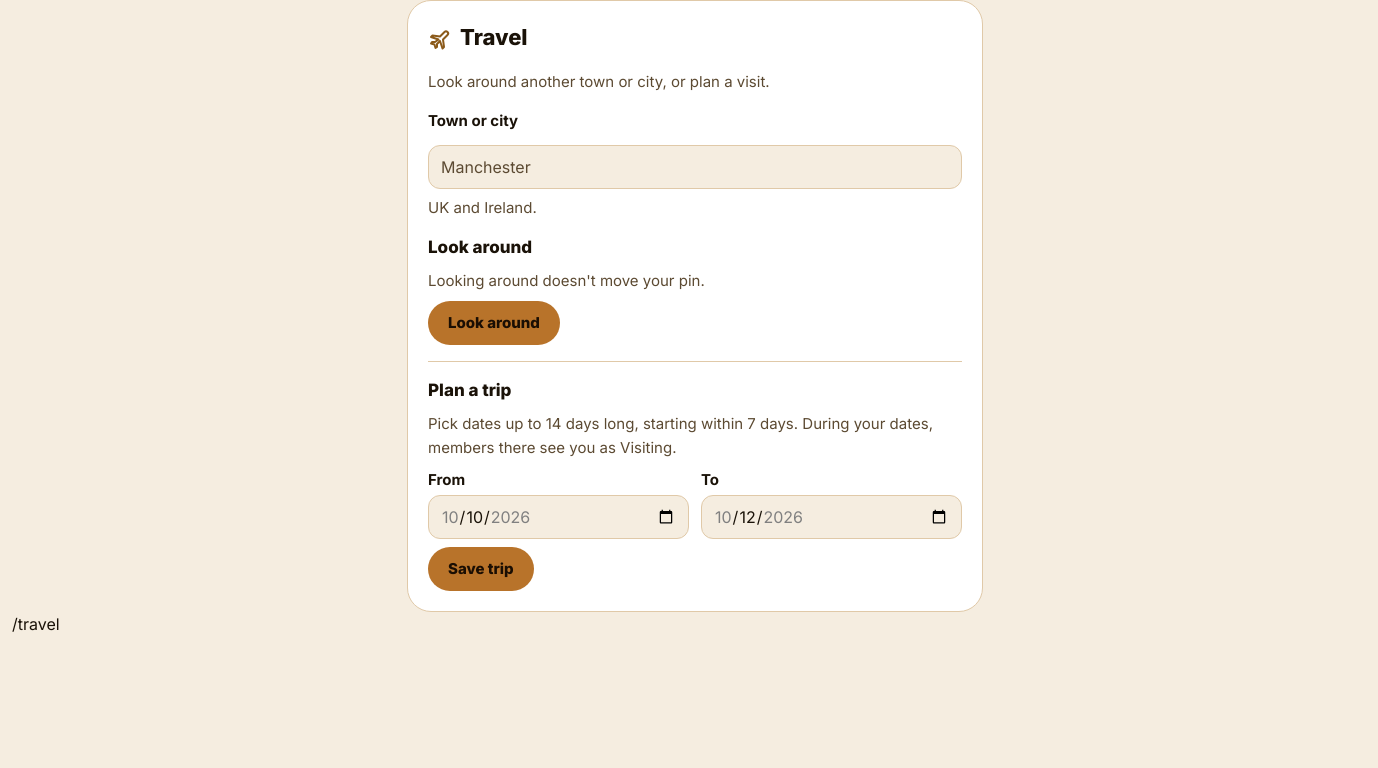
Test: TravelSheet › saves a trip, shows it, and ends it
The image size is (1378, 768).
Type "Leeds" into the field with test id "travel-city" at (695, 167), box [428,145,962,189]
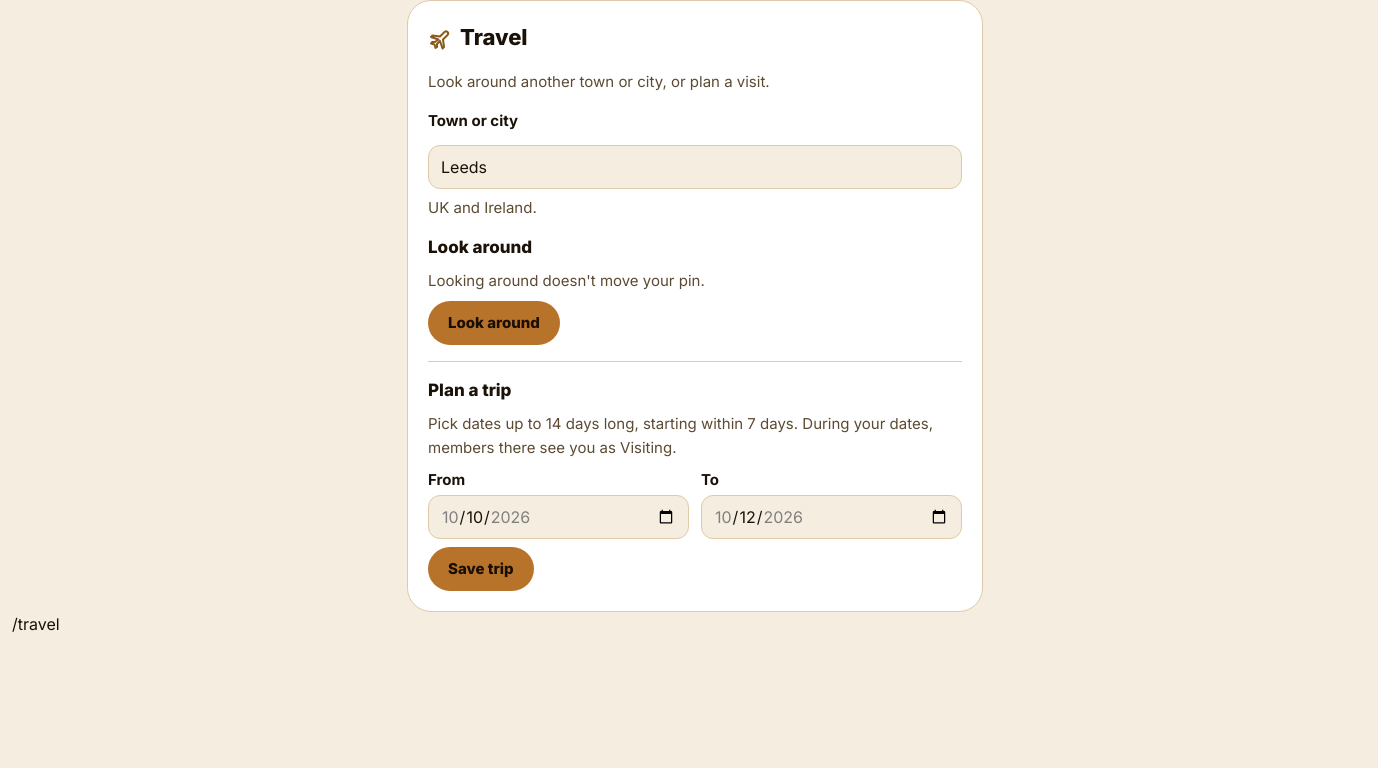
Click the button with test id "travel-save-trip" at (481, 569), box [428,547,534,591]
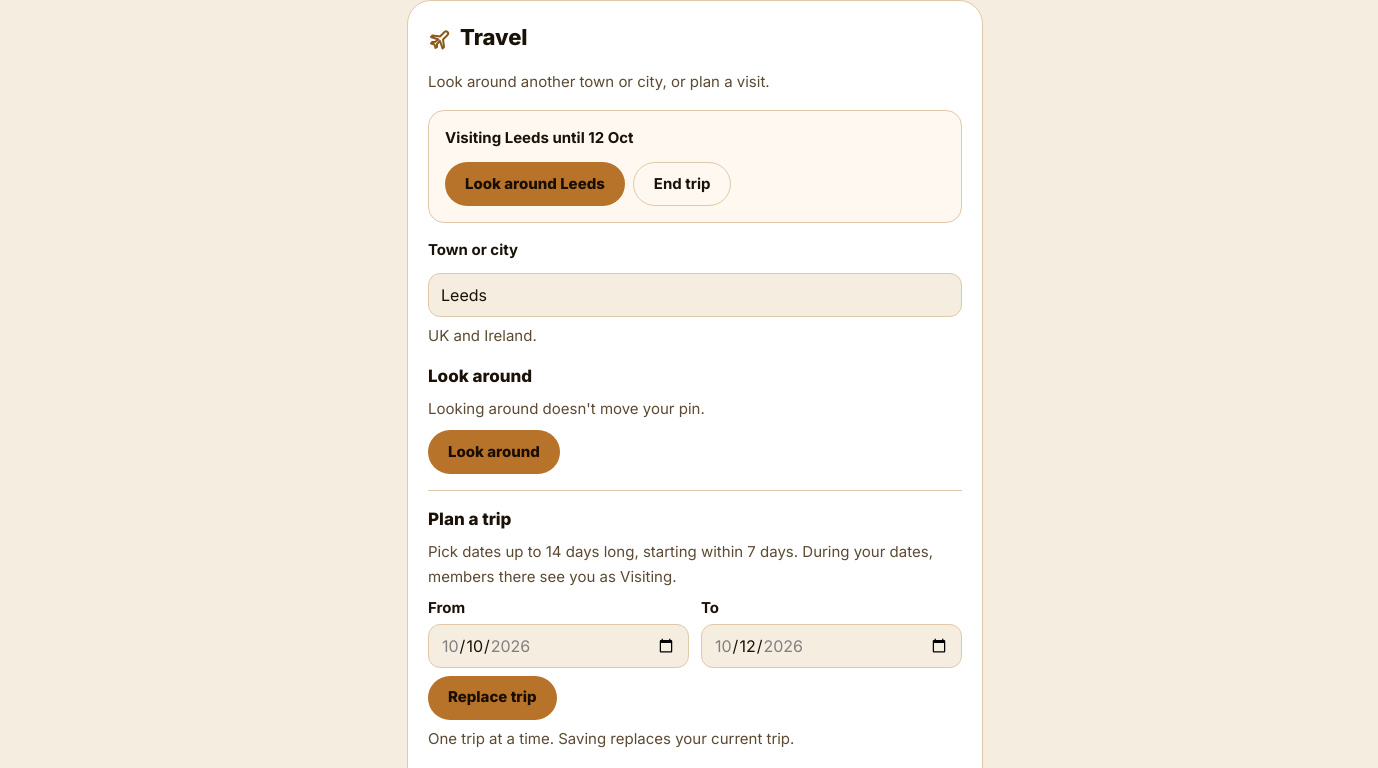
Expected: the text with test id "travel-trip-summary" reads "Visiting Leeds until 12 Oct", [445,128,634,147]
Expected: the button with test id "travel-save-trip" reads "Replace trip", [428,676,556,720]
Click the button with test id "travel-end-trip" at (682, 184), box [633,162,732,206]
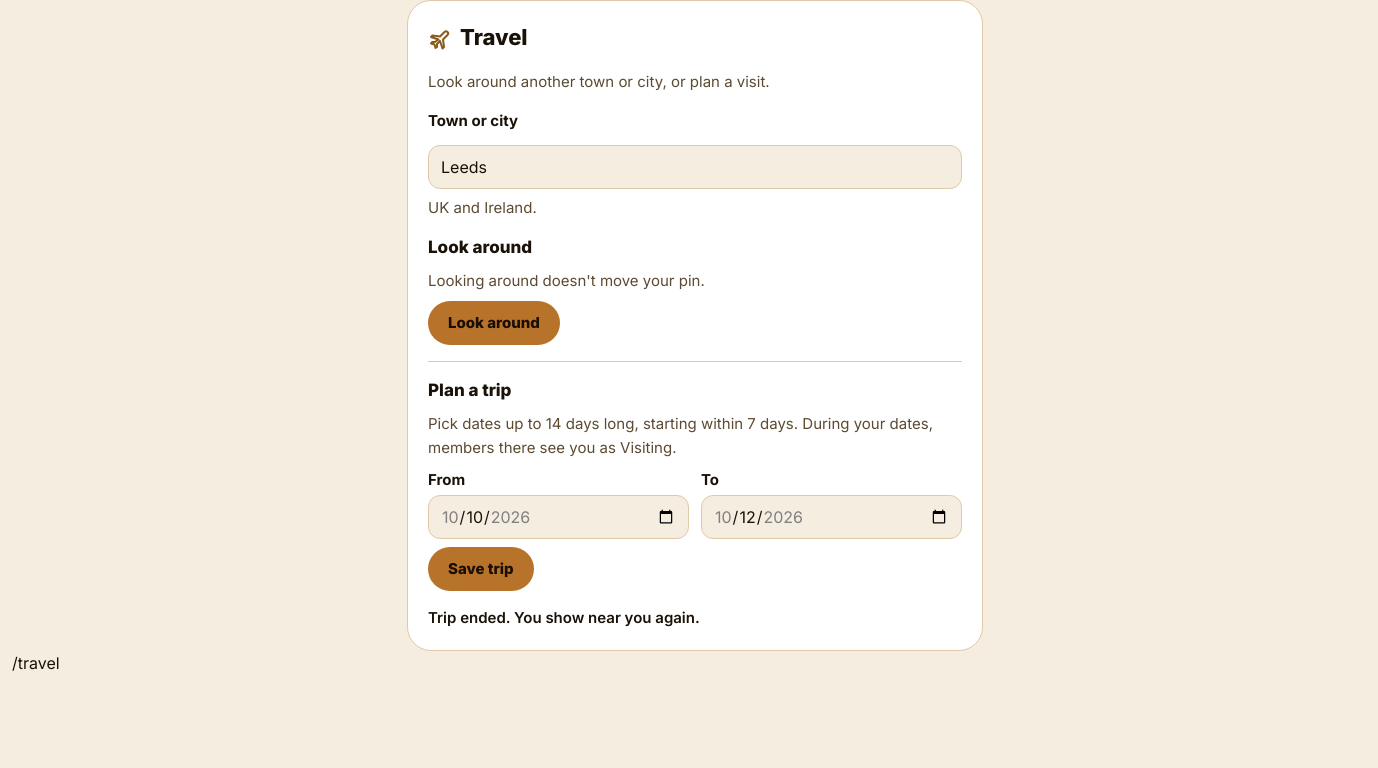
Expected: the element with test id "travel-current-trip" is gone
Expected: the message with test id "travel-notice" shows "Trip ended.", [428,608,700,627]
